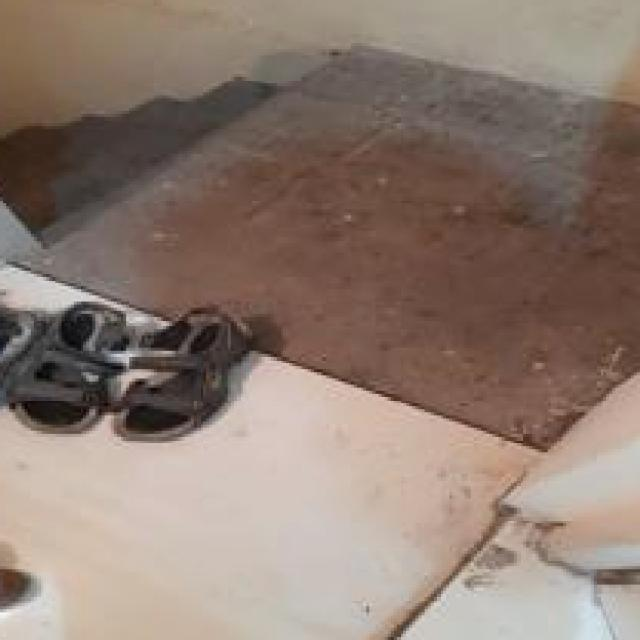downstair: (7, 60, 287, 223)
